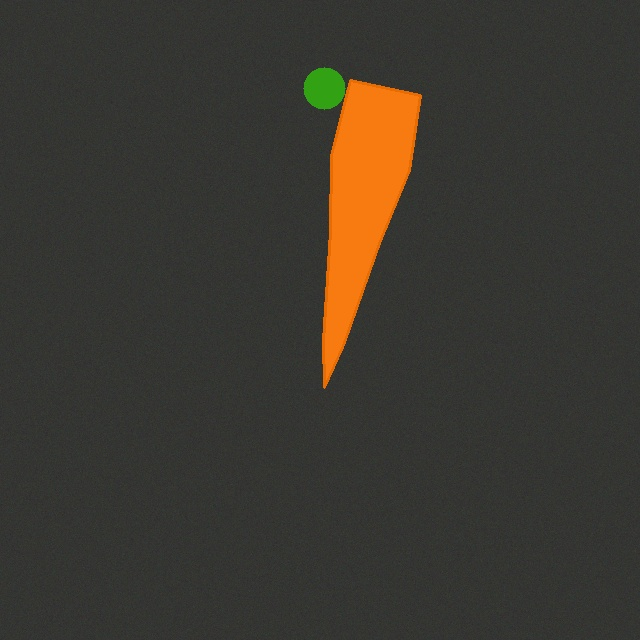Good_Carrot: (315, 72, 428, 395)
